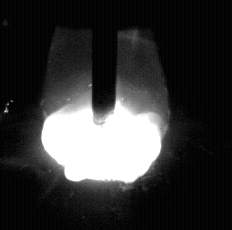arame: (92, 0, 117, 125)
poca: (41, 0, 165, 230)
